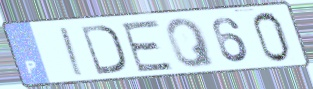0: (251, 10, 294, 63)
6: (211, 16, 251, 64)
D: (78, 23, 128, 77)
E: (119, 18, 176, 73)
I: (56, 25, 87, 78)
Q: (164, 16, 219, 70)
